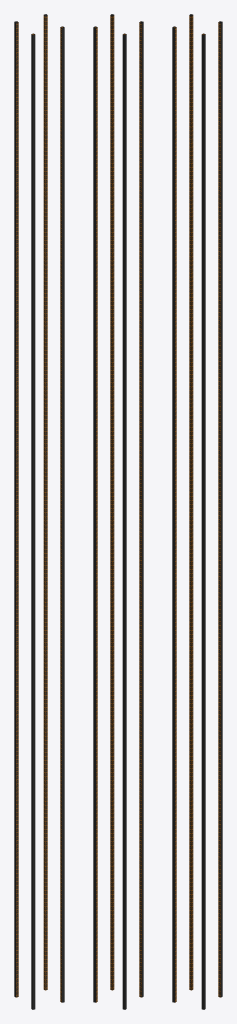
File: Asset_Pilares.fbx
3 views of the same model, side by side, from view 1: azimuth 30°, elevation 25°; view 2: azimuth 150°, elevation 25°; view 3: azimuth 330°, elevation 25° (orthographic).
Visible parts, largest first — view 1: Asset_Pilares; view 2: Asset_Pilares; view 3: Asset_Pilares.
Part boxes in pixels (x1,y1,x2,y2): Asset_Pilares: [14, 14, 64, 1009]; Asset_Pilares: [93, 14, 143, 1009]; Asset_Pilares: [172, 14, 222, 1009].
Bounding box in the file's own units: 286 × 8347 × 286.
